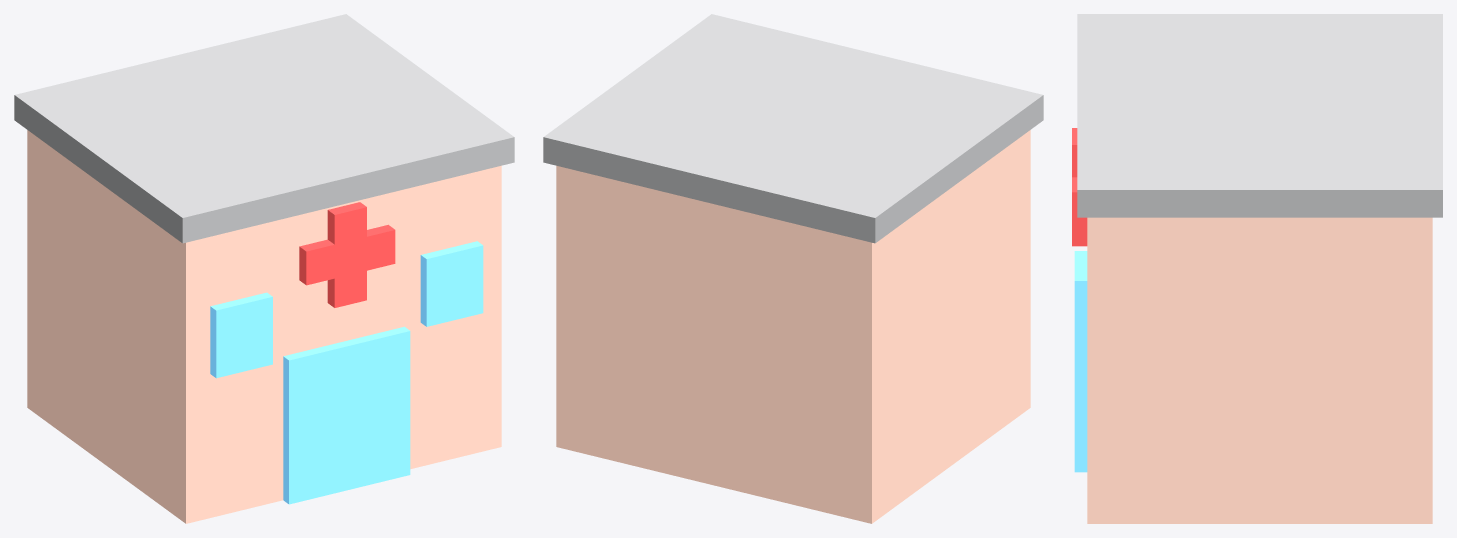
Rendered from clinic.glb.
The picture shows the model from 3 angles, left to right: view 1: azimuth 30°, elevation 25°; view 2: azimuth 150°, elevation 25°; view 3: azimuth 270°, elevation 25°; orthographic projection. The views are drawn at different scales.
Visible parts, largest first — view 1: clinic; view 2: clinic; view 3: clinic.
Part boxes in pixels (<box>): clinic: <box>14,14,514,523</box>; clinic: <box>543,14,1043,523</box>; clinic: <box>1072,14,1442,523</box>.
Size of the model in its own units: 0.82 by 0.735 by 0.73.
